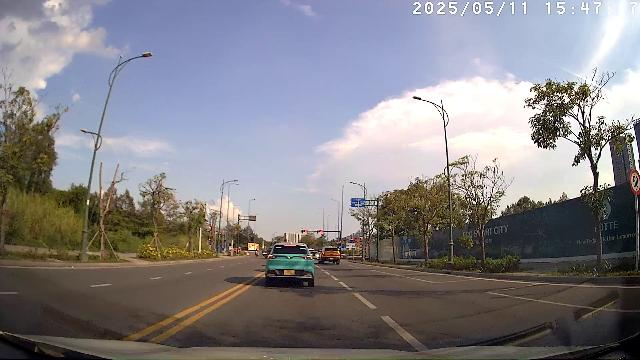127-toc-do-toi-da-50: (629, 169, 640, 195)
